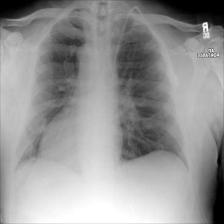normal: (10, 2, 194, 176)
